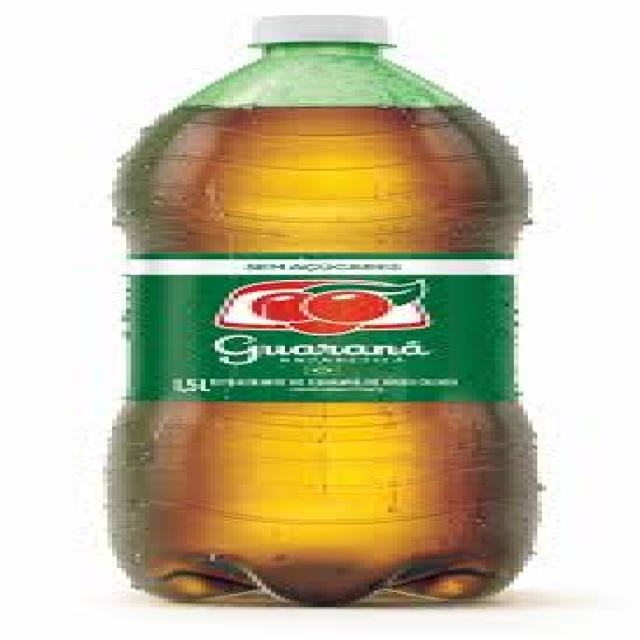bottle: (111, 16, 535, 605)
